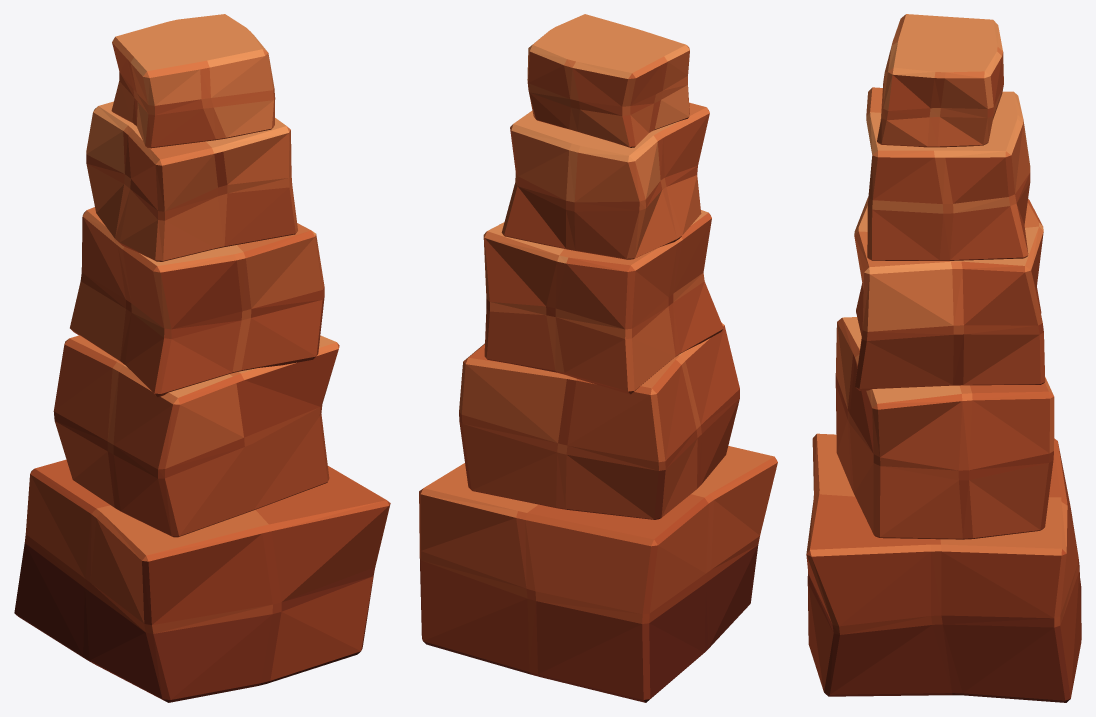
File: SM_CLIFF_TOWER_01.fbx
3 renders of one model, left to right at view 1: azimuth 30°, elevation 25°; view 2: azimuth 150°, elevation 25°; view 3: azimuth 270°, elevation 25°, orthographic. The views are drawn at different scales.
Visible parts, largest first — view 1: CLIFF_TOWER_01; view 2: CLIFF_TOWER_01; view 3: CLIFF_TOWER_01.
Part boxes in pixels (x1,y1,x2,y2): CLIFF_TOWER_01: (14,14,390,702); CLIFF_TOWER_01: (419,14,777,702); CLIFF_TOWER_01: (806,14,1081,702).
Size of the model in its own units: 3.3 by 3.18 by 7.64.
